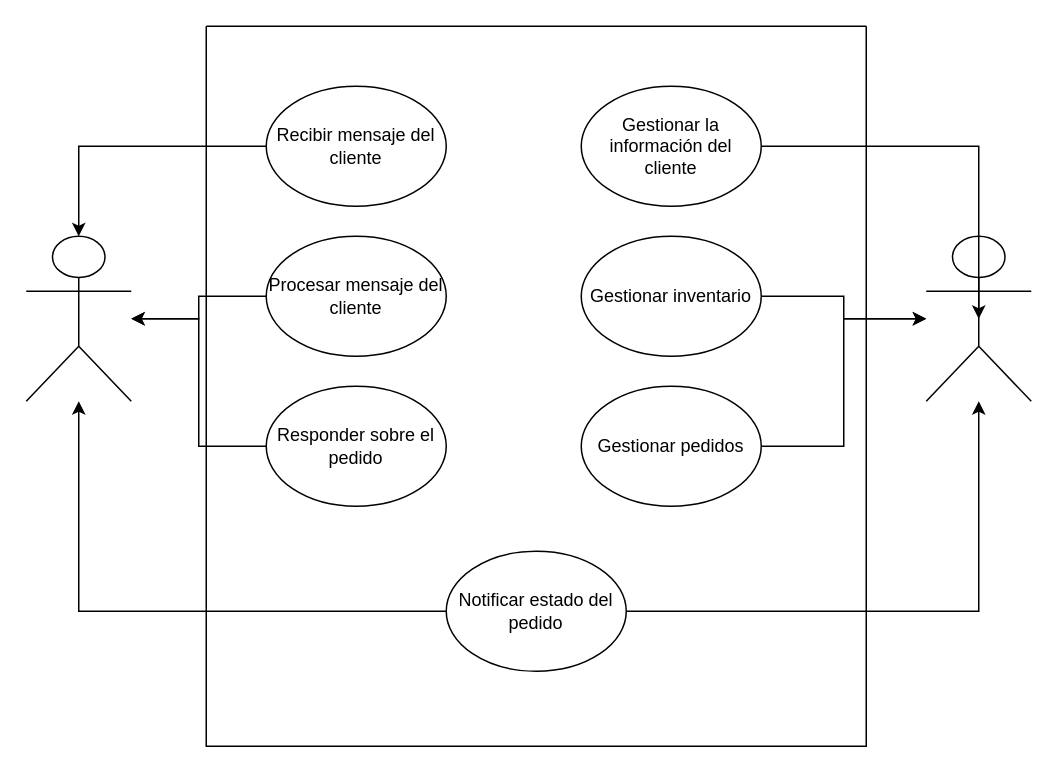
The diagram is 1058 pixels wide and 773 high, and some of its shapes have lost their labels. The shapes that lost their labels are listed below. From the top down, each one's centre as x and y in pixels, then its label:
At (78,318): "Luixa".
At (978,318): "Proveedor".
